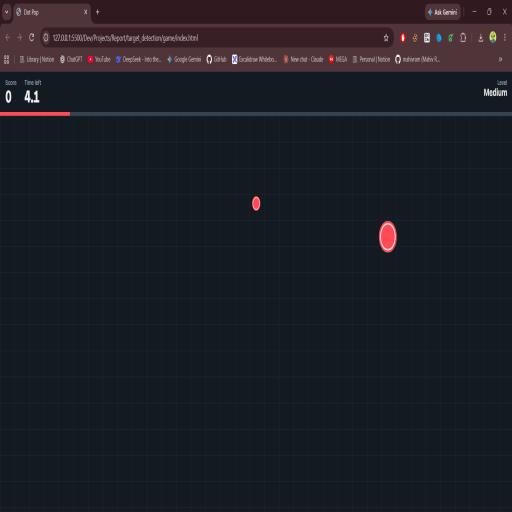Target-Detection: (379, 221, 396, 252), (252, 196, 261, 211)
